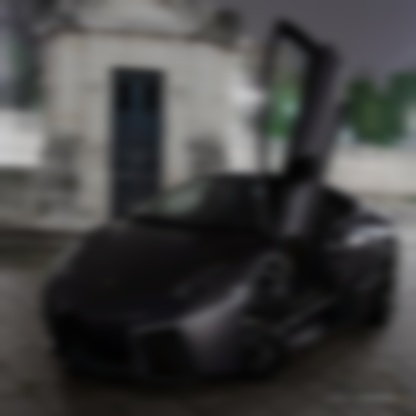Vehicle: (39, 165, 399, 384)
